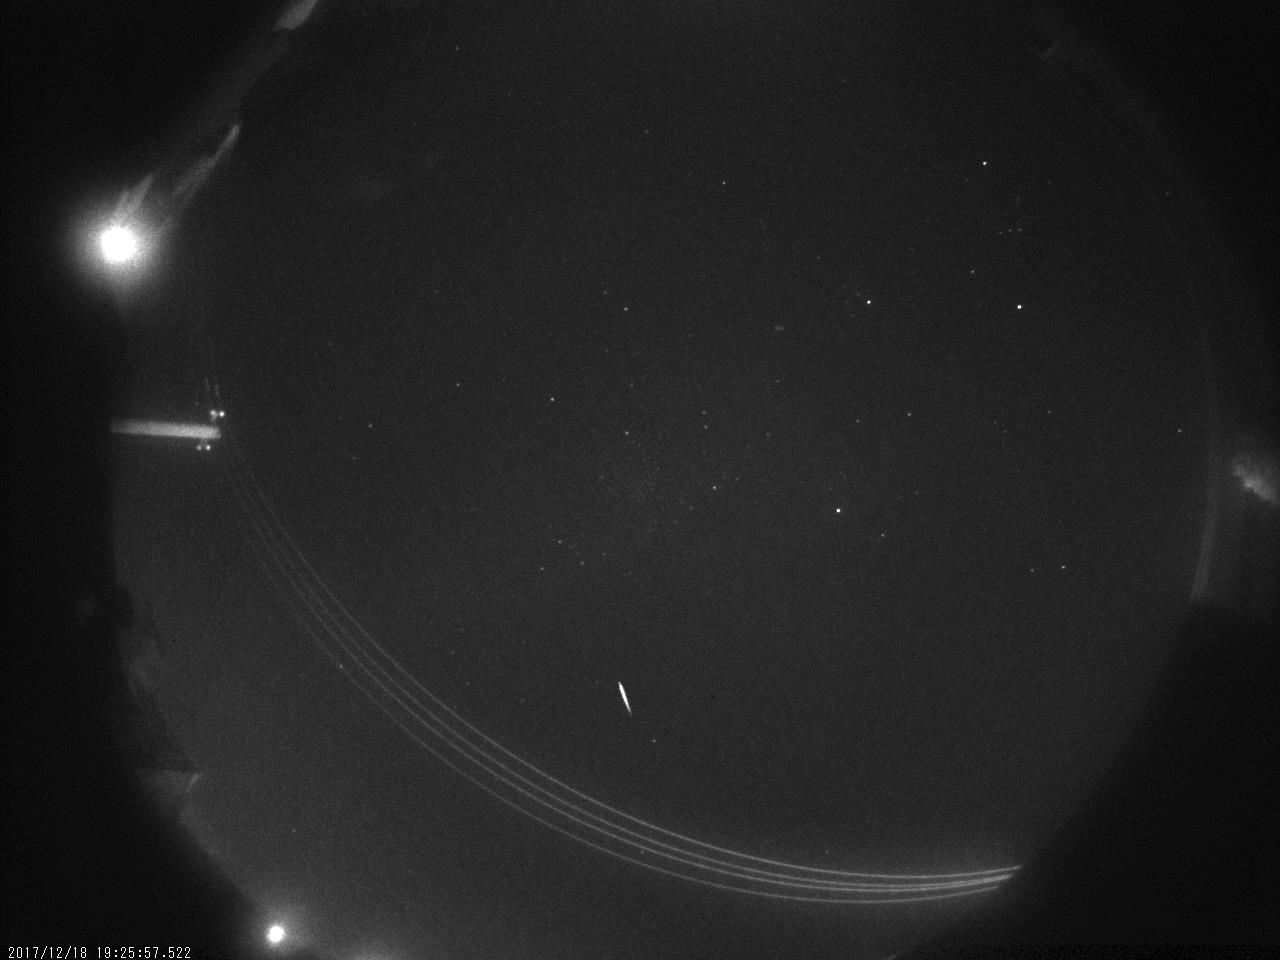meteor: (594, 665, 657, 727)
